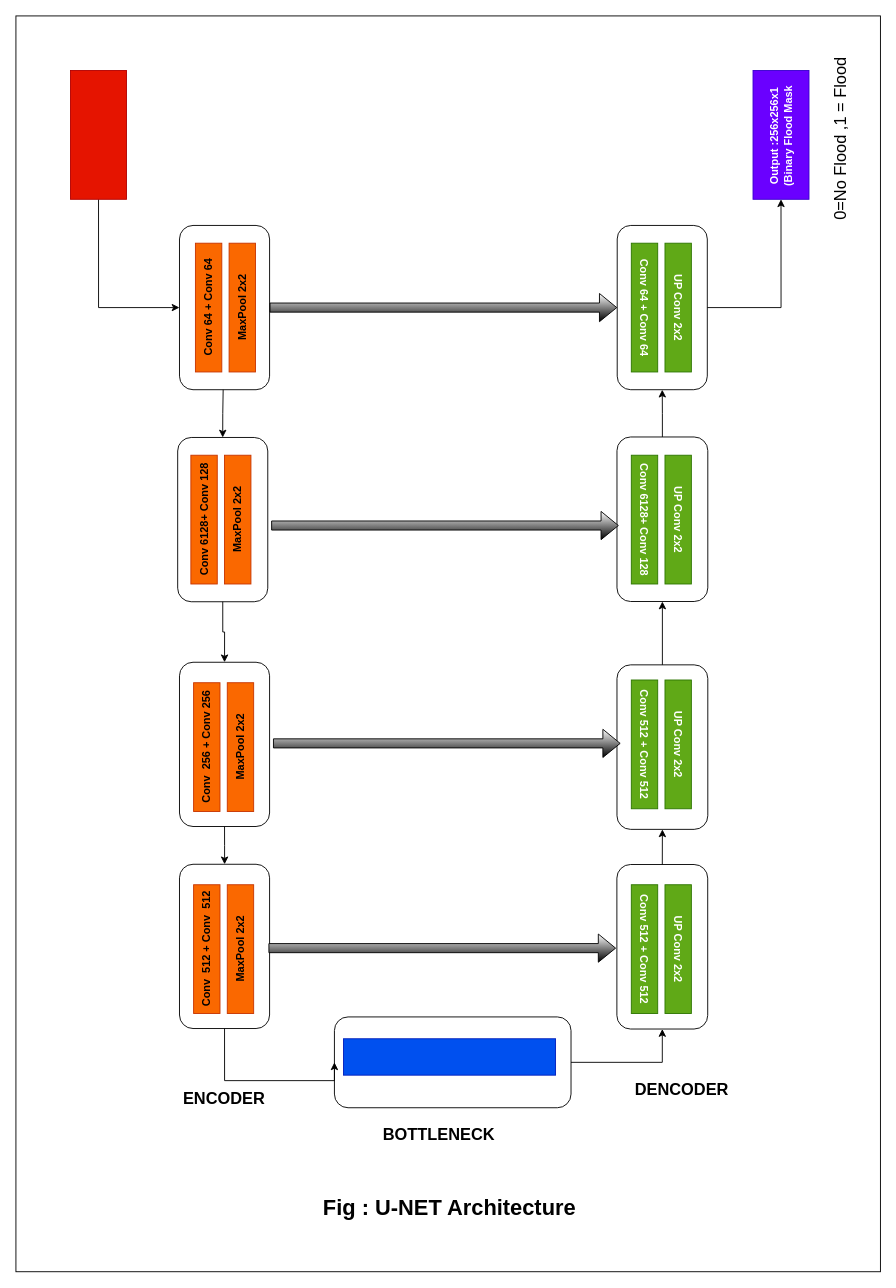
The diagram is 896 pixels wide and 1288 high, and some of its shapes have lost their labels. Each missing label, with the centre of its shape:
Conv 1024 +Conv 1024: [449,1056]
Input :256x256x2 ( VV+VH polarization SAR image ): [98,134]
